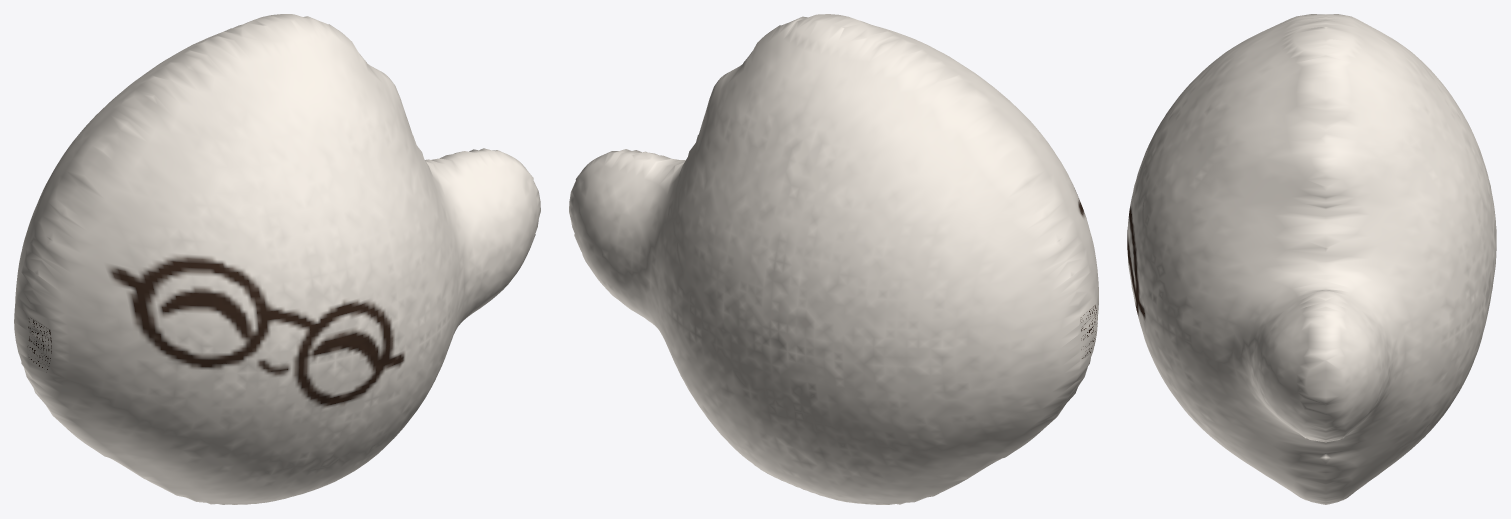
The model's file is pulse.glb.
3 renders of one model, left to right at view 1: azimuth 30°, elevation 25°; view 2: azimuth 150°, elevation 25°; view 3: azimuth 270°, elevation 25°, orthographic. The views are drawn at different scales.
Visible parts, largest first — view 1: Pulse; view 2: Pulse; view 3: Pulse.
Part boxes in pixels (x1,y1,x2,y2): Pulse: (14, 14, 540, 504); Pulse: (569, 14, 1098, 504); Pulse: (1127, 14, 1496, 504).
Bounding box in the file's own units: 1.16 × 1.01 × 0.7567.
1 material, 1 textured.
